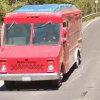Bus: (3, 2, 83, 87)
